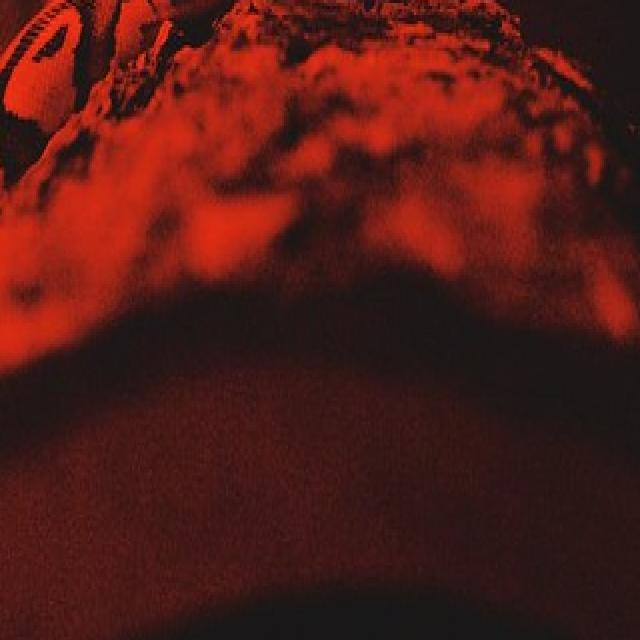snake: (0, 0, 324, 356)
